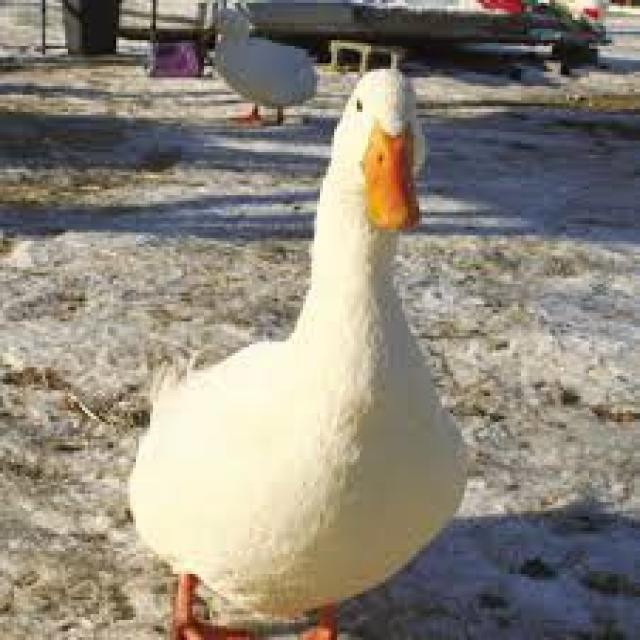Duck: (103, 52, 491, 640)
